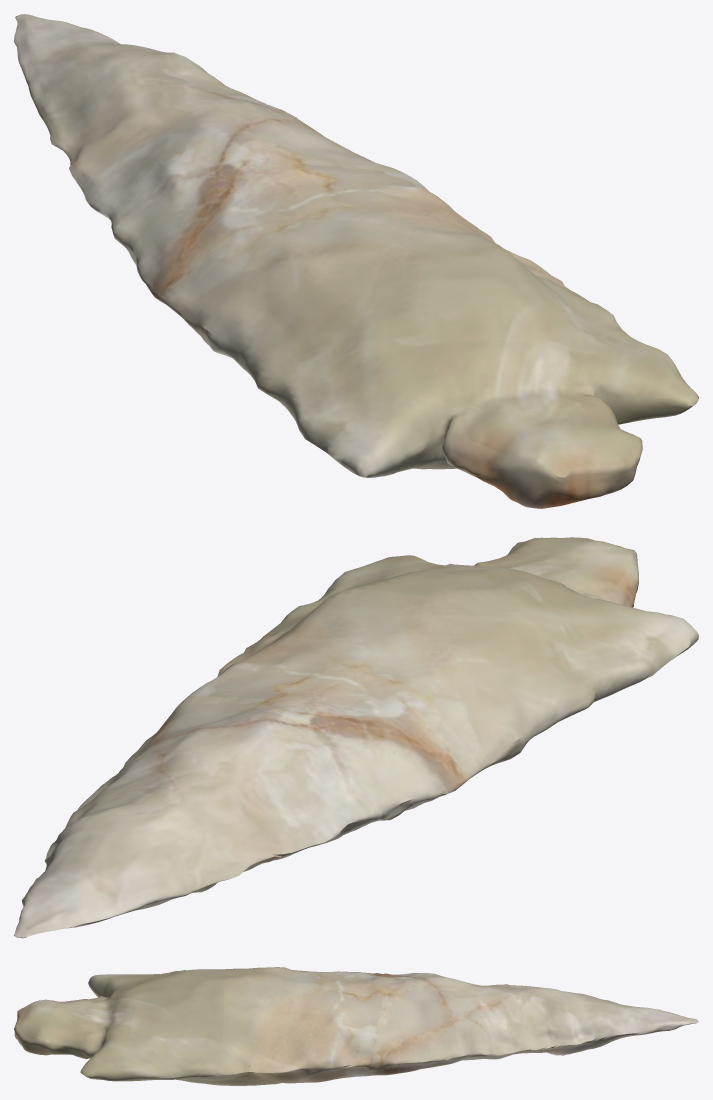
Rendered from StoneTool.fbx.
3 renders of one model, top to bottom at view 1: azimuth 30°, elevation 25°; view 2: azimuth 150°, elevation 25°; view 3: azimuth 270°, elevation 25°, orthographic. The views are drawn at different scales.
Parts seen in each view (by area): view 1: Object_3; view 2: Object_3; view 3: Object_3.
Part boxes in pixels (x1=…): Object_3: x1=14, y1=14, x2=698, y2=508; Object_3: x1=14, y1=537, x2=698, y2=938; Object_3: x1=14, y1=967, x2=698, y2=1085.
Bounding box in the file's own units: 78.05 × 33.45 × 230.
